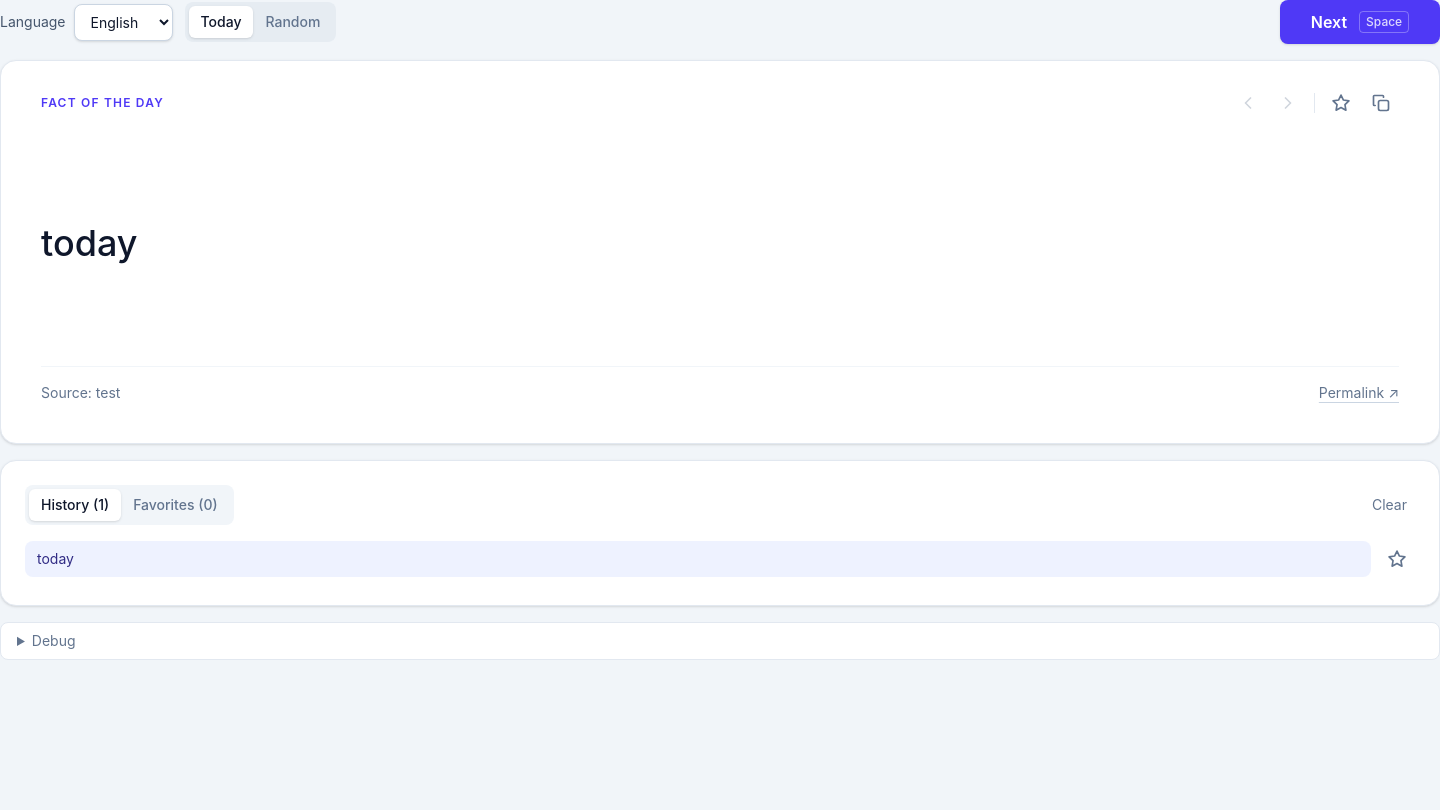
debug panel shows the raw response
Expected: the text "today" below "Fact of the day" is shown, [41,221,138,265]
Click the heading "Debug".
click(54, 640)  # box [32,632,76,649]
(page scrolled)
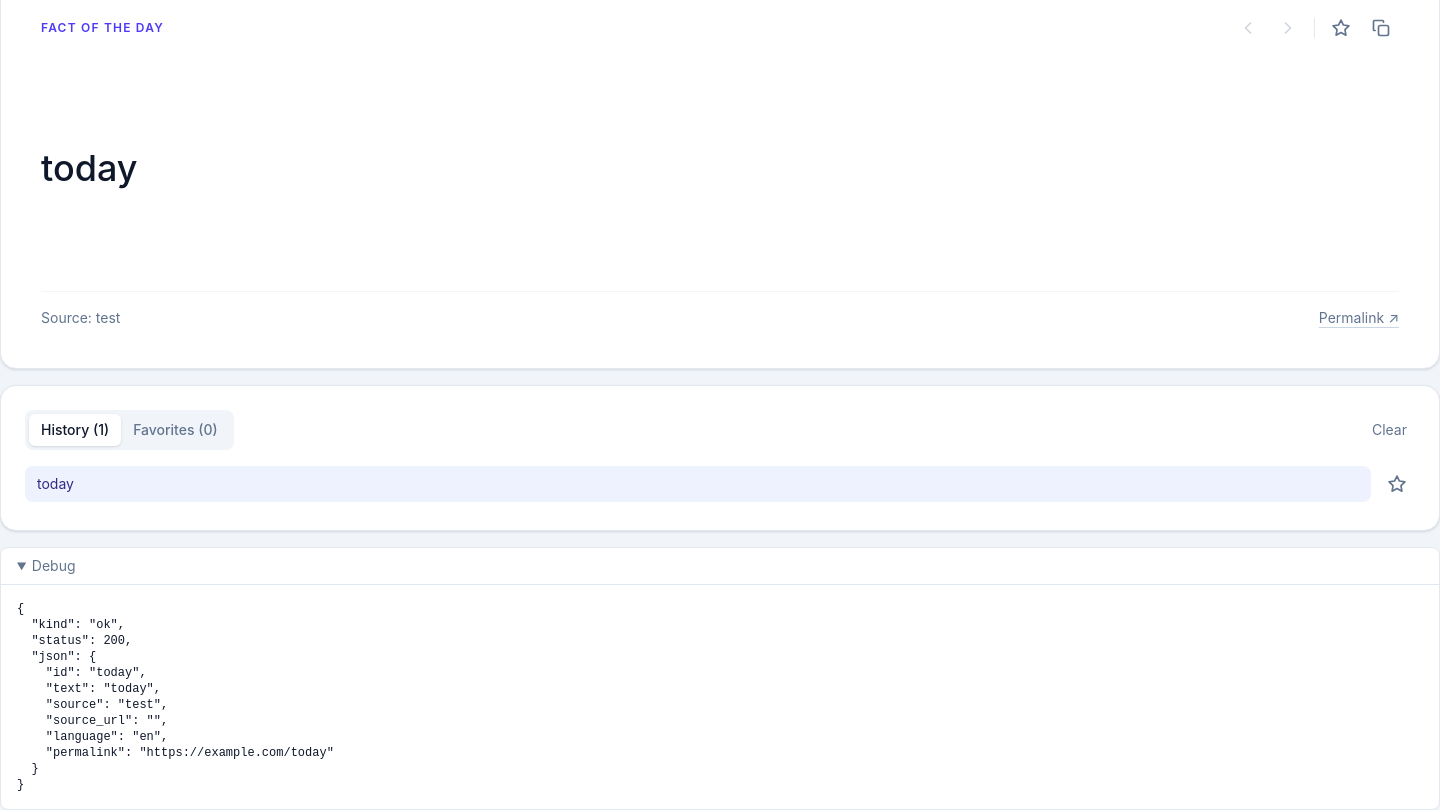
Expected: the text "\"kind\": \"ok\"" is shown, [17,602,334,792]
